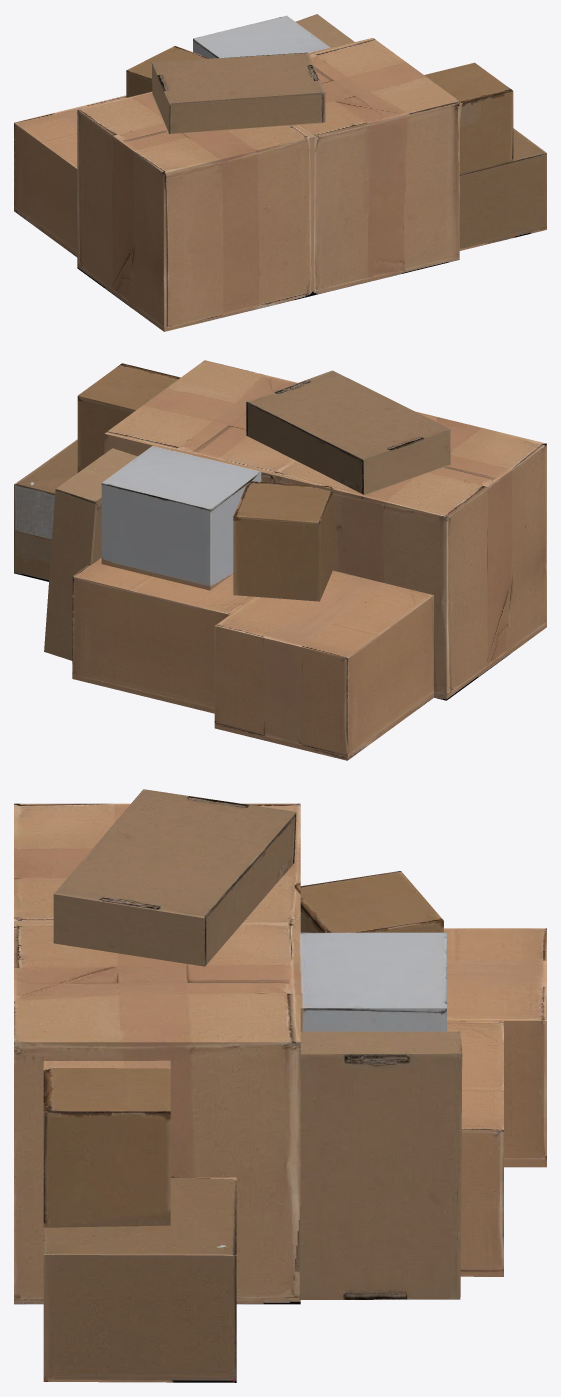
File: cardboard-boxes.glb
3 views of the same model, one above another, from view 1: azimuth 30°, elevation 25°; view 2: azimuth 150°, elevation 25°; view 3: azimuth 270°, elevation 25° (orthographic). The views are drawn at different scales.
Parts seen in each view (by area): view 1: cardboard_box_set_lp__0; view 2: cardboard_box_set_lp__0; view 3: cardboard_box_set_lp__0.
Part boxes in pixels (x1=…): cardboard_box_set_lp__0: x1=14, y1=14, x2=546, y2=331; cardboard_box_set_lp__0: x1=14, y1=360, x2=546, y2=760; cardboard_box_set_lp__0: x1=14, y1=789, x2=546, y2=1382.
Size of the model in its own units: 0.6 by 0.2762 by 0.4265.
Materials: 1 (1 with a texture image).
